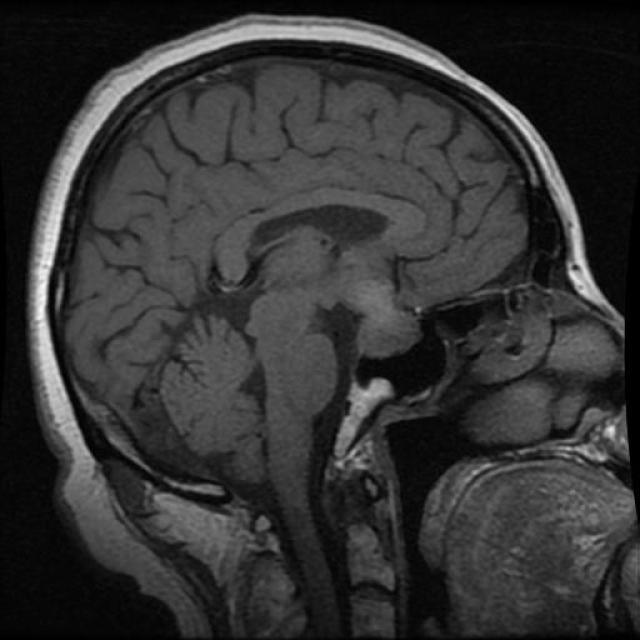pituitary: (316, 257, 428, 443)
